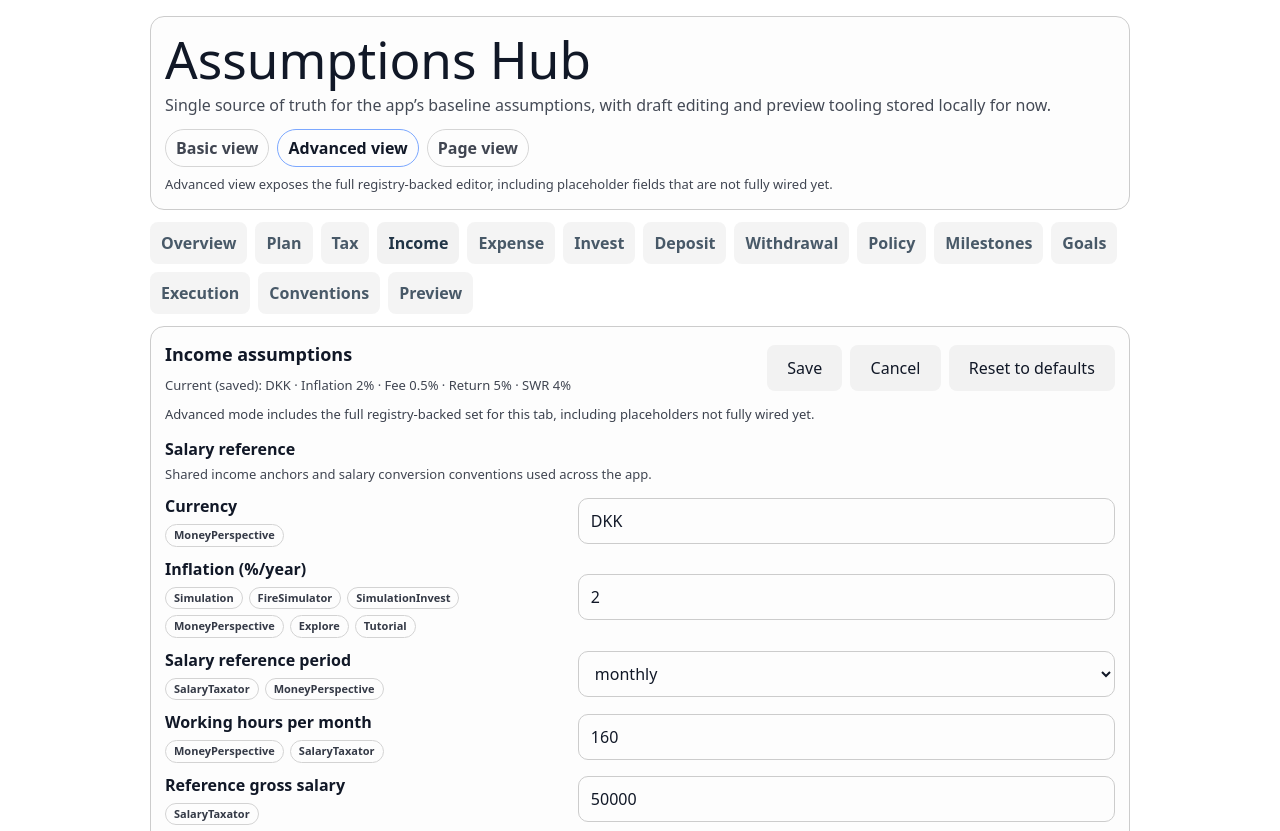
Test: AssumptionsHubPage › shows aligned policy and milestone fields in basic view
The image size is (1280, 831).
Step 1. Click the button "Basic view" → (217, 148), box [165, 129, 270, 167]
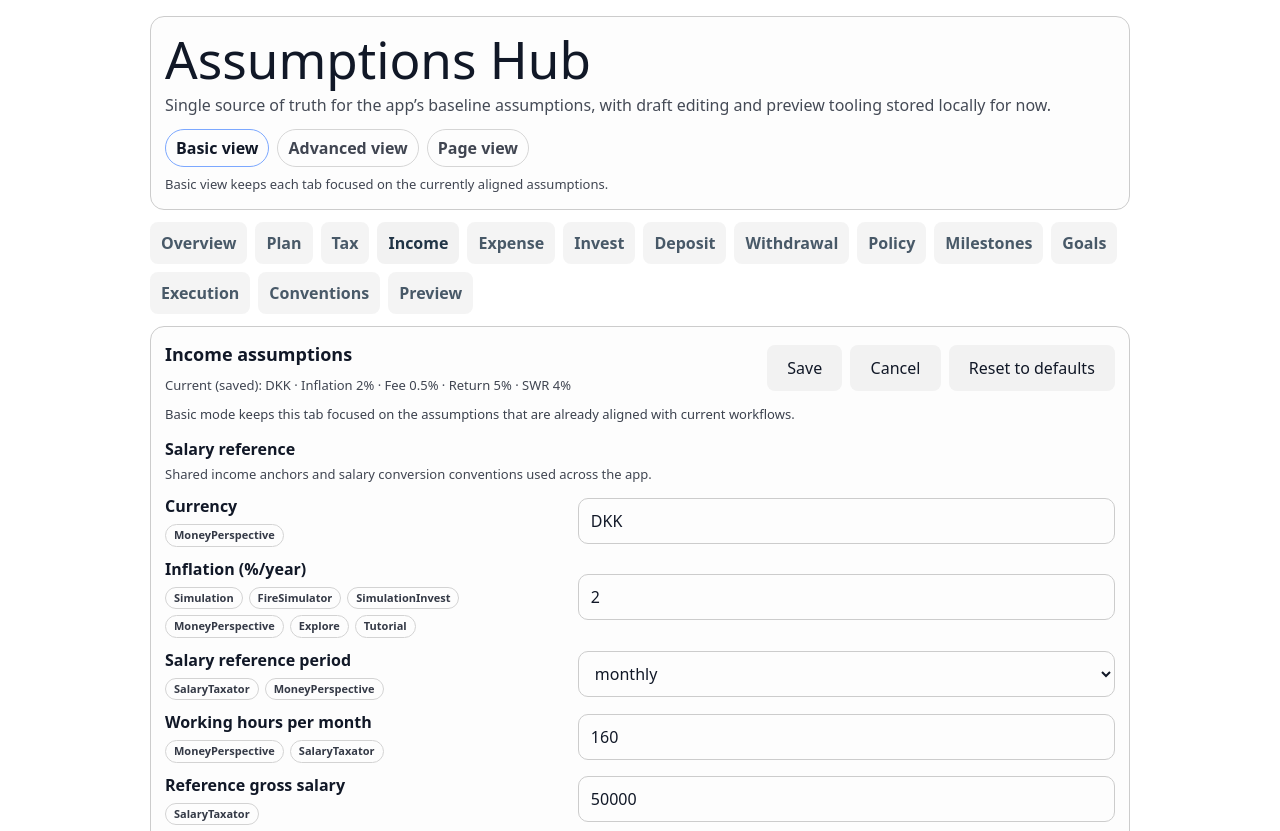
Step 2. Click the tab "Policy" → (892, 243), box [857, 222, 926, 264]
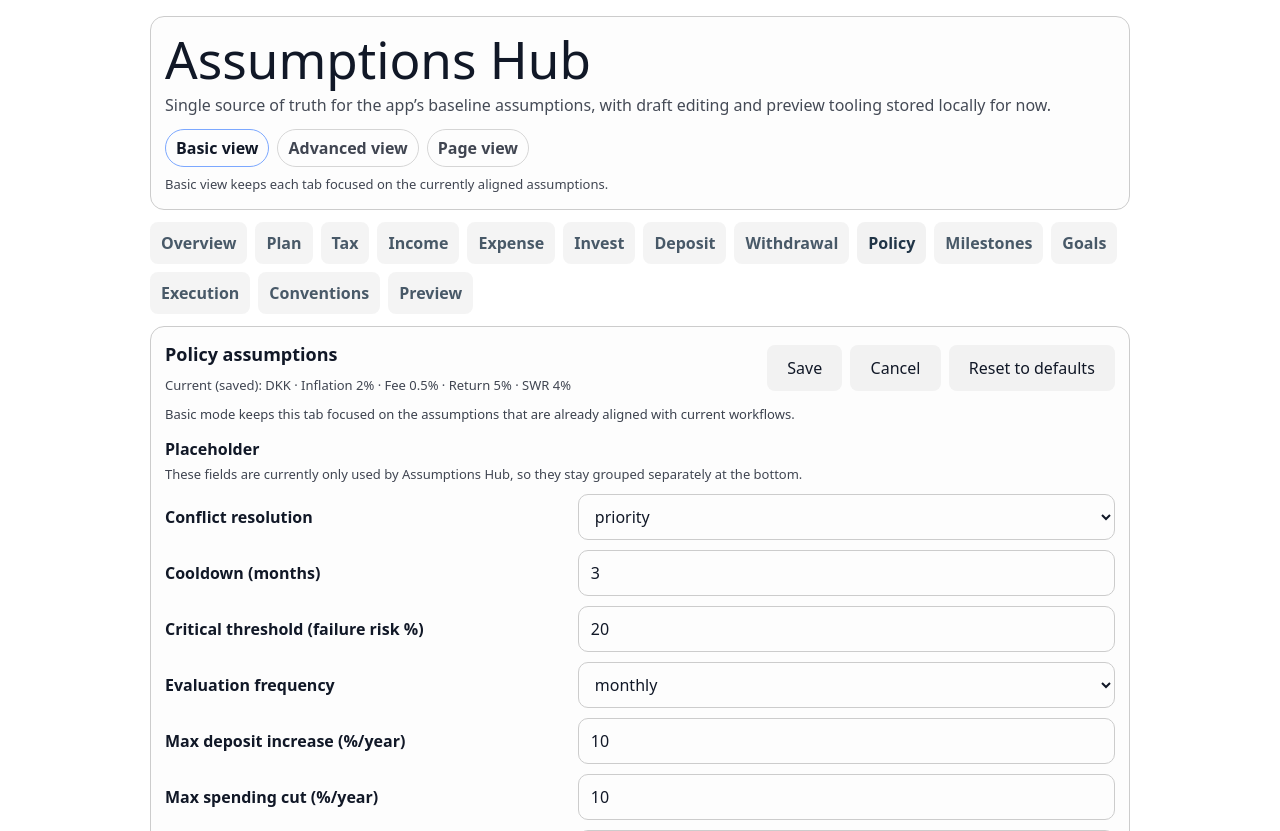
Expected: the number field labelled "Max deposit increase (%/year)" is shown, [578, 718, 1115, 764]
Expected: the number field labelled "Critical threshold (failure risk %)" is shown, [578, 606, 1115, 652]
Step 3. Click the tab "Milestones" → (989, 243), box [934, 222, 1043, 264]
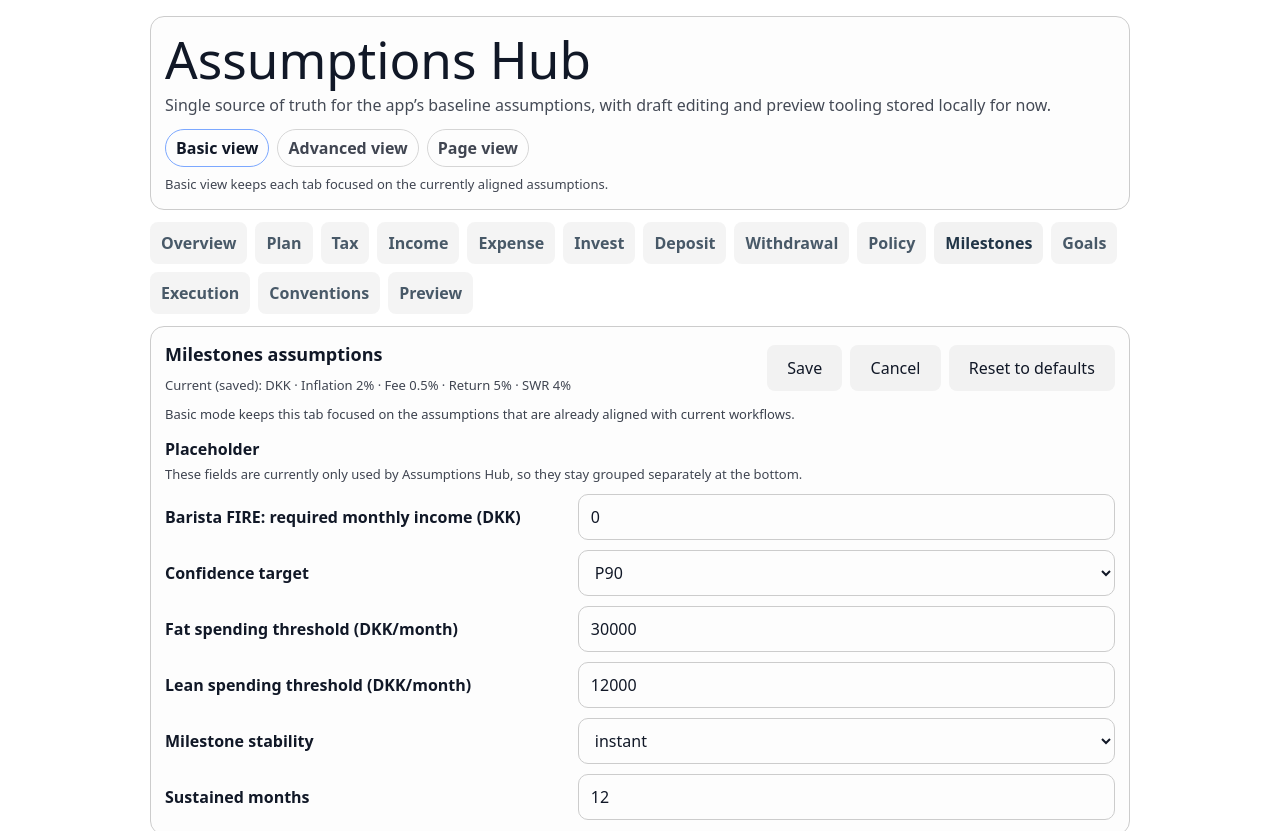
Expected: the number field labelled "Sustained months" is shown, [578, 774, 1115, 820]
Expected: the number field labelled "Barista FIRE: required monthly income (DKK)" is shown, [578, 494, 1115, 540]
